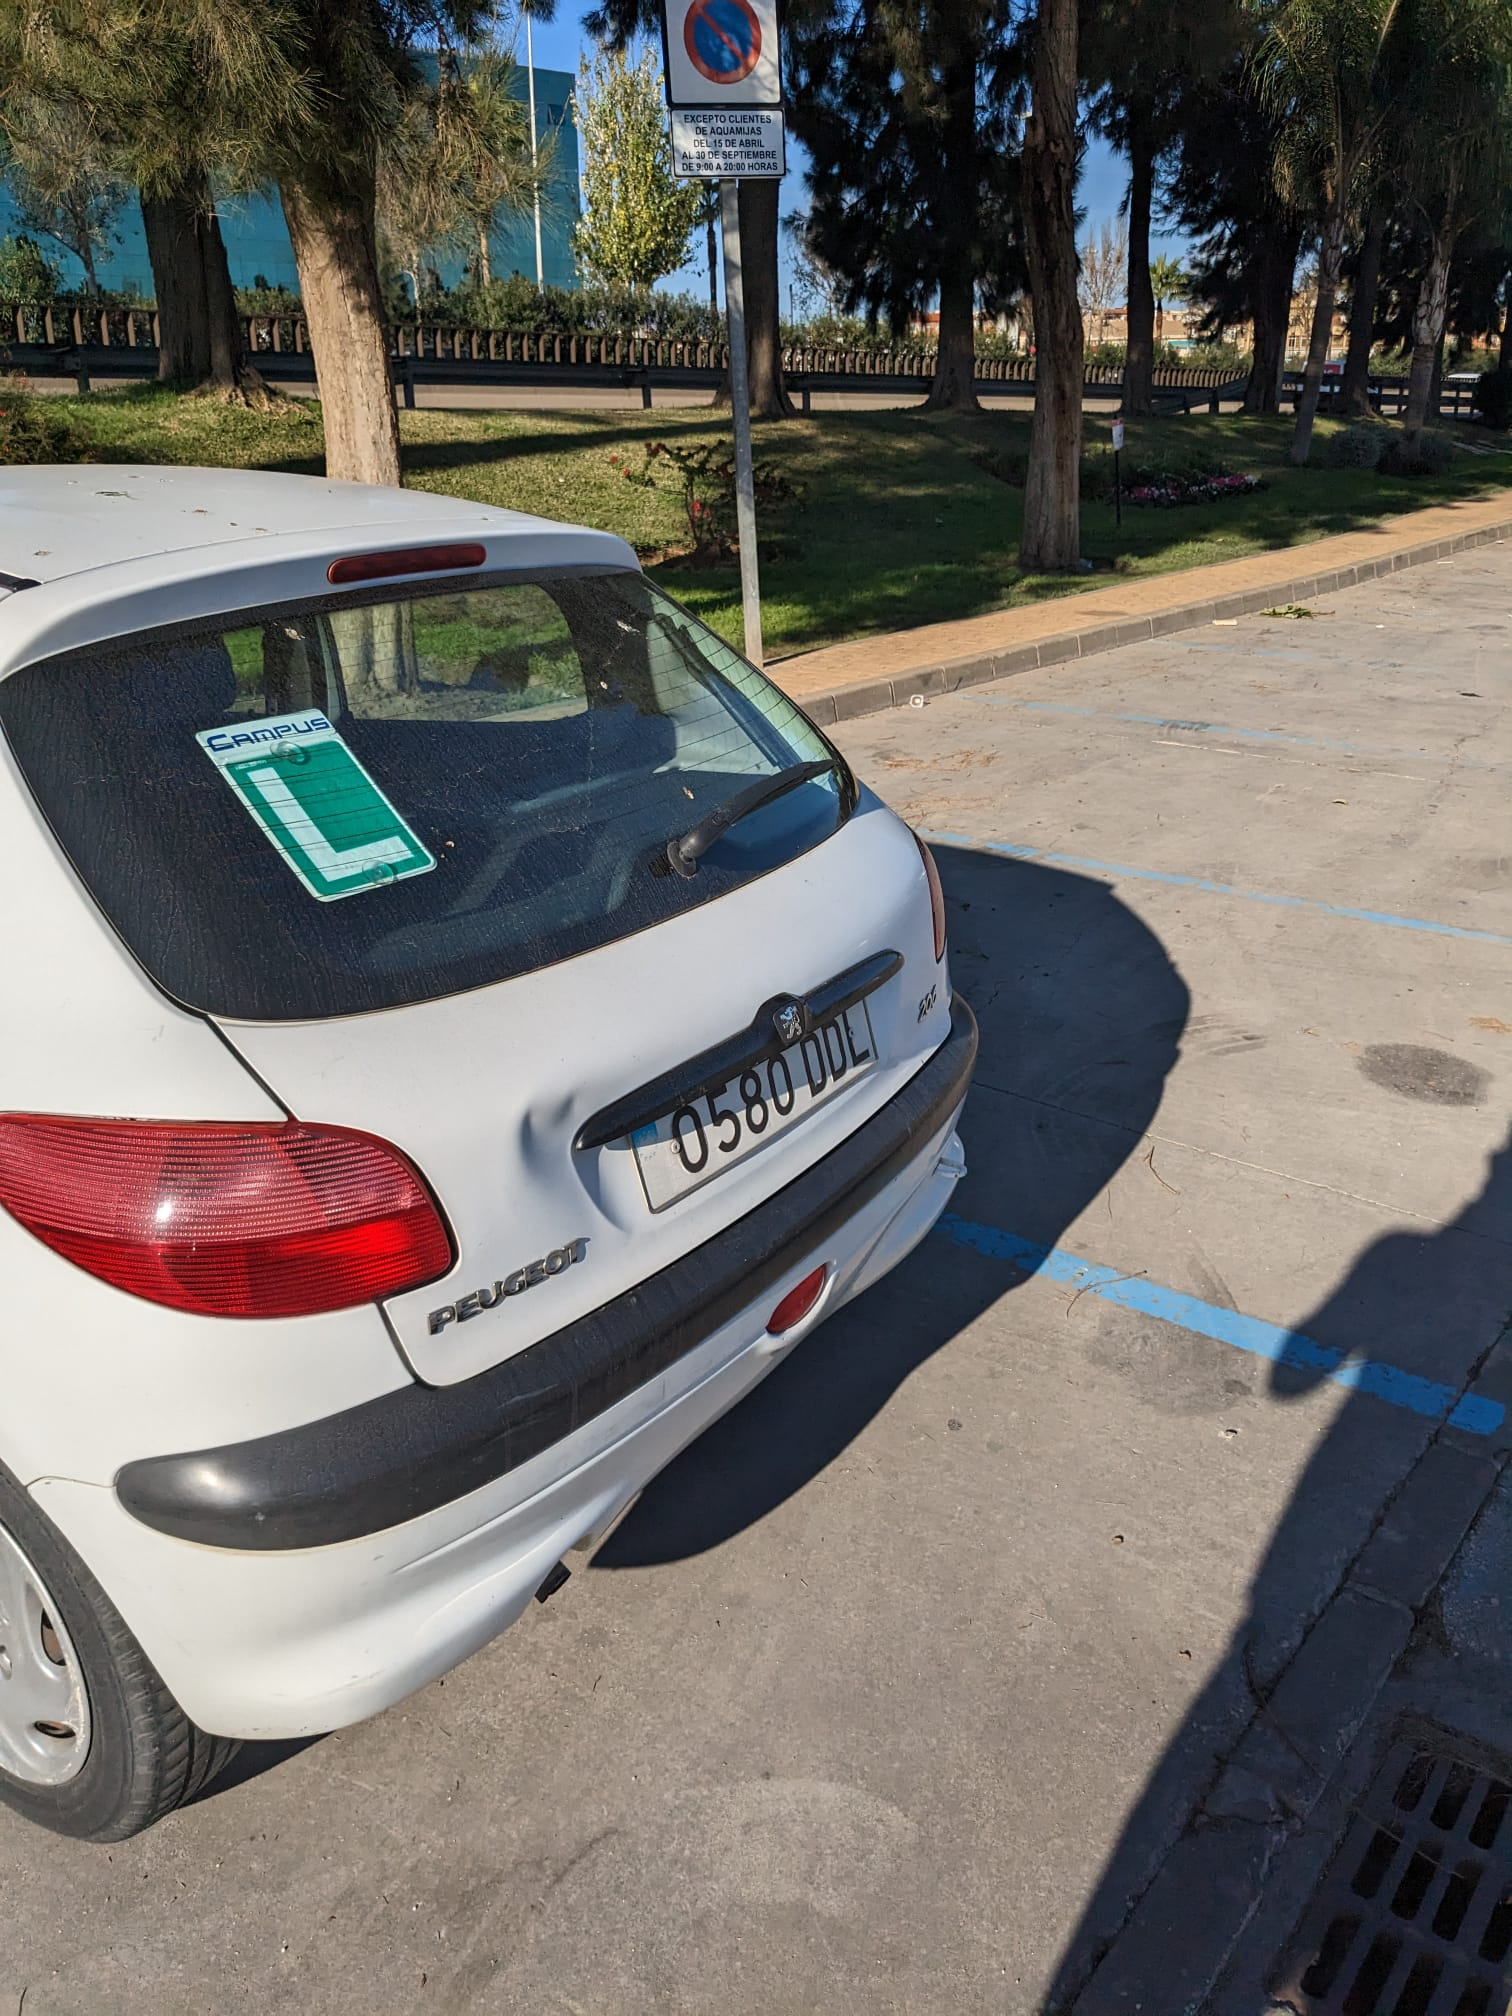car: (3, 400, 983, 1876)
